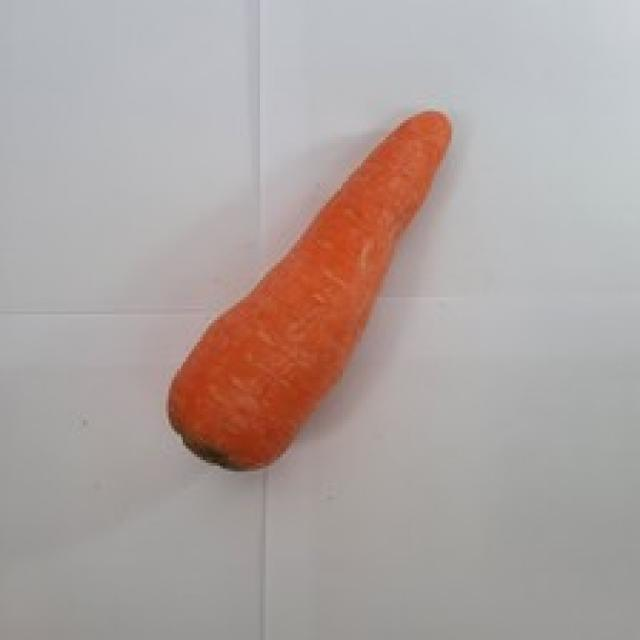carrot: (170, 108, 452, 470)
